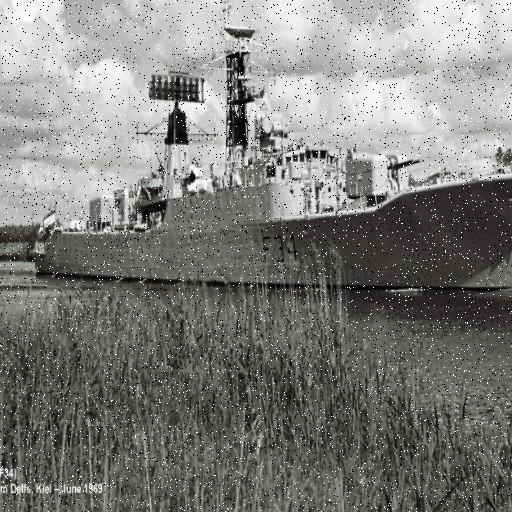Fragata: (22, 1, 512, 293)
